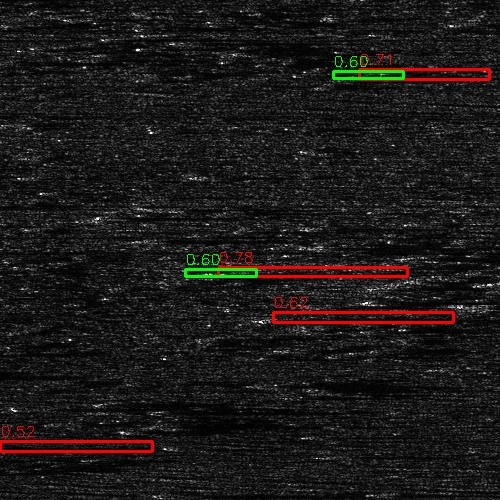rock: (0, 398, 132, 411), (131, 407, 204, 414), (451, 298, 500, 307), (61, 213, 144, 218), (395, 253, 448, 260), (292, 309, 313, 322), (114, 236, 167, 241), (227, 260, 238, 283)
shadow: (233, 260, 418, 283), (65, 398, 342, 411), (303, 309, 486, 322), (168, 407, 339, 414), (141, 236, 262, 241), (103, 213, 223, 218), (422, 253, 500, 260), (0, 202, 69, 207)
